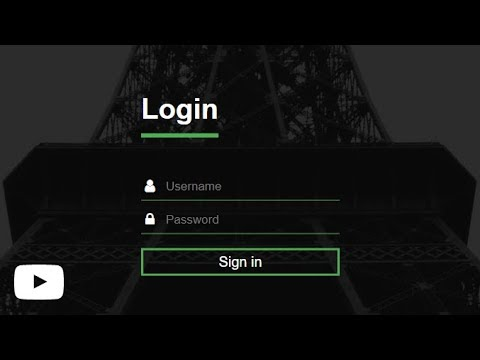button: (139, 245, 340, 278)
field_line: (139, 176, 341, 203), (138, 210, 340, 236)
